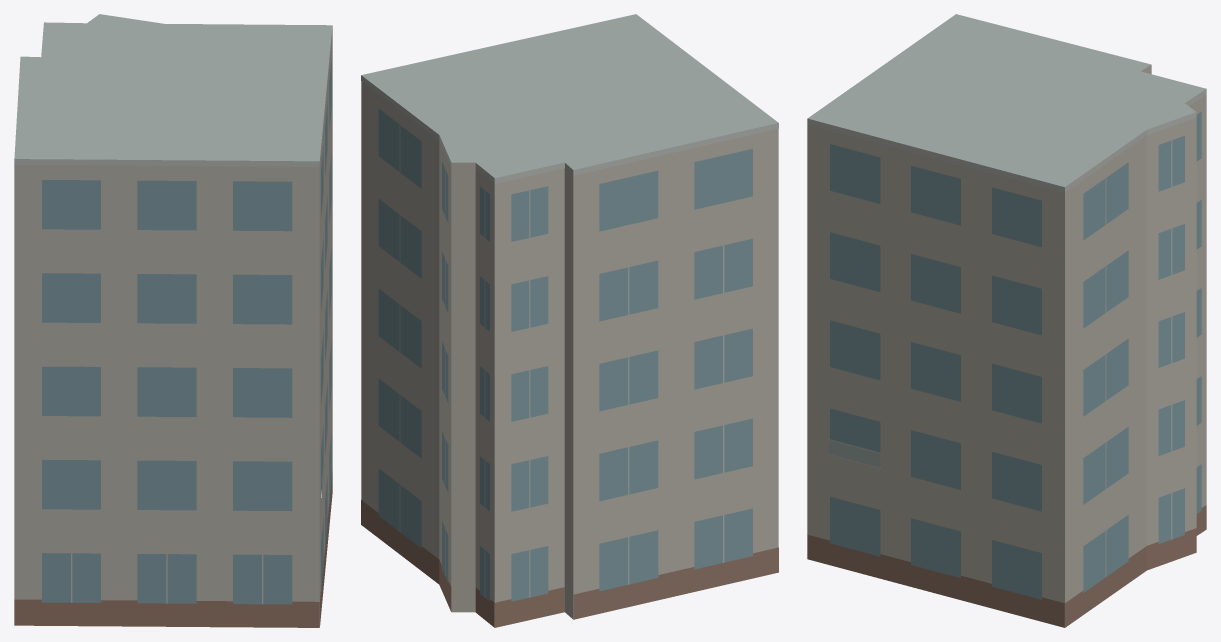
The model's file is survey-upis-32602607.glb.
3 views of the same model, side by side, from view 1: azimuth 30°, elevation 25°; view 2: azimuth 150°, elevation 25°; view 3: azimuth 270°, elevation 25° (orthographic). The views are drawn at different scales.
Visible parts, largest first — view 1: survey-upis-32602607.tmp; view 2: survey-upis-32602607.tmp; view 3: survey-upis-32602607.tmp.
Boxes of the visible parts, <box> form: survey-upis-32602607.tmp: <box>14,14,332,627</box>; survey-upis-32602607.tmp: <box>361,14,778,627</box>; survey-upis-32602607.tmp: <box>807,14,1206,627</box>.
Bounding box in the file's own units: 16.29 × 19.32 × 15.87.
